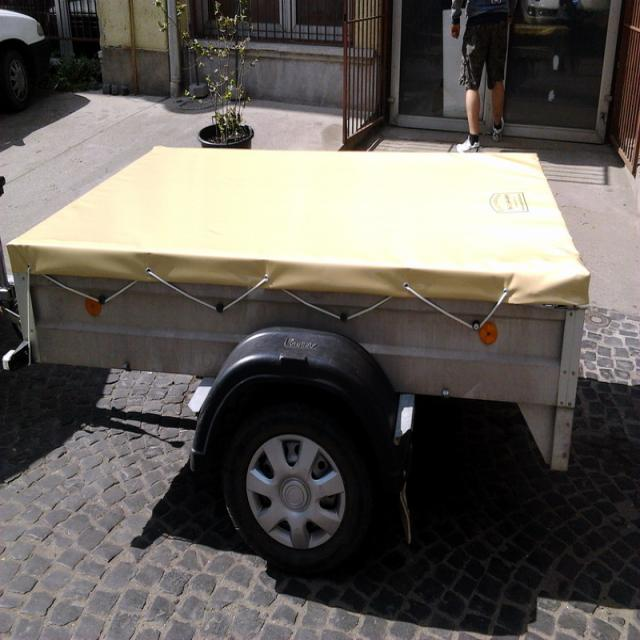trailer: (5, 144, 591, 473)
